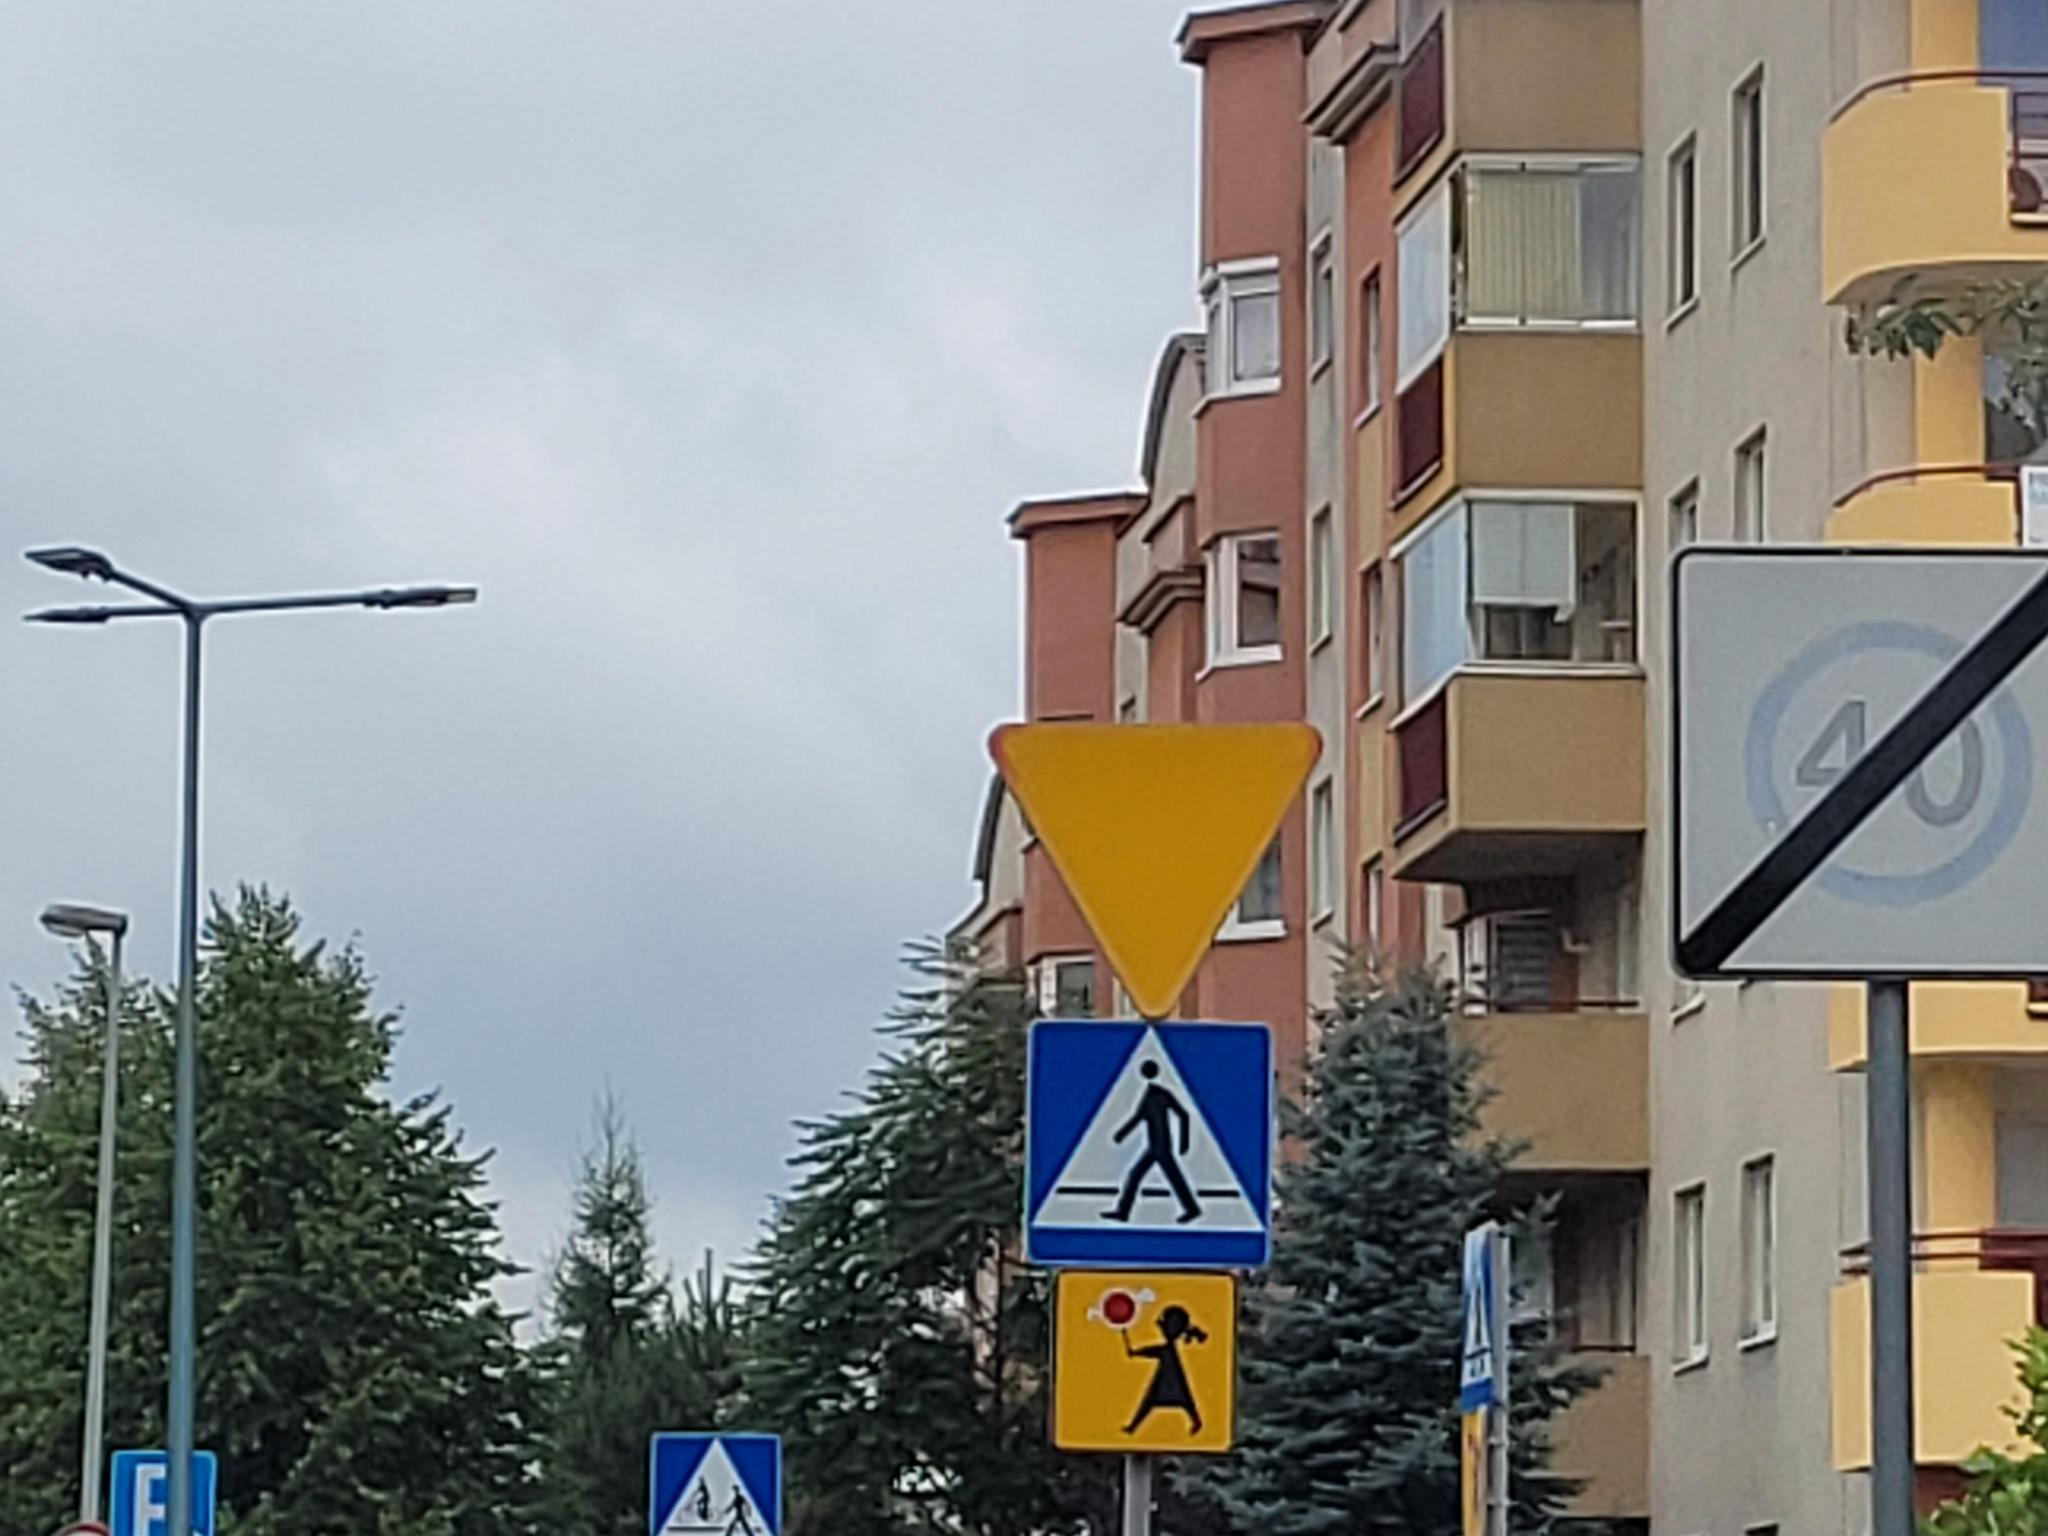information: (1021, 1021, 1277, 1275), (645, 1430, 787, 1536), (110, 1450, 218, 1536)
other: (1055, 1268, 1235, 1460)
prohibitory: (1737, 620, 2043, 908)
warning: (989, 716, 1326, 1026)
